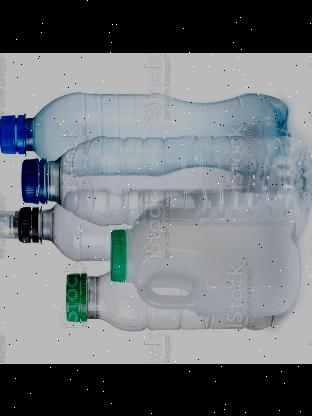Plastic Bottle: (18, 129, 312, 226), (0, 86, 297, 177), (61, 262, 284, 334)
